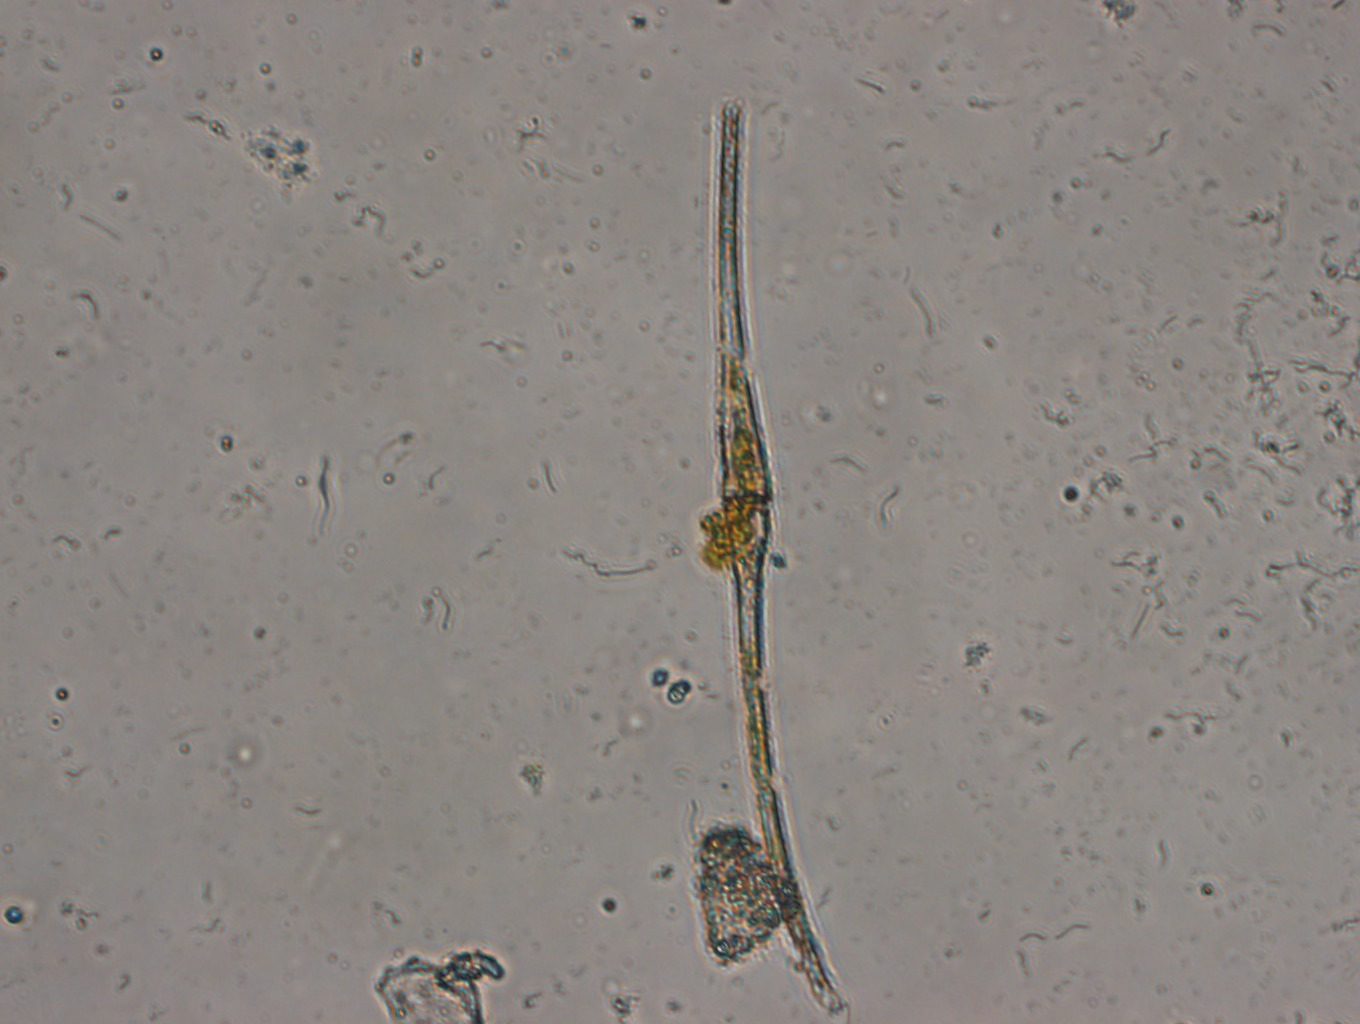ceratium fusus: (691, 85, 882, 1014)
